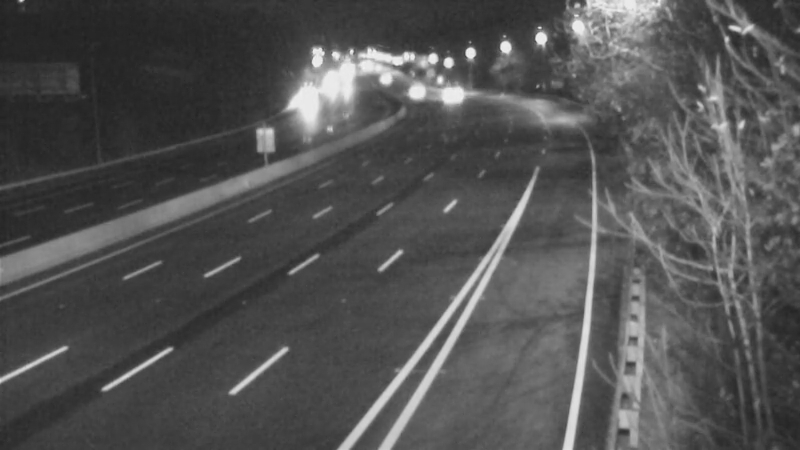vehicle: (389, 64, 439, 114), (430, 70, 480, 120)
